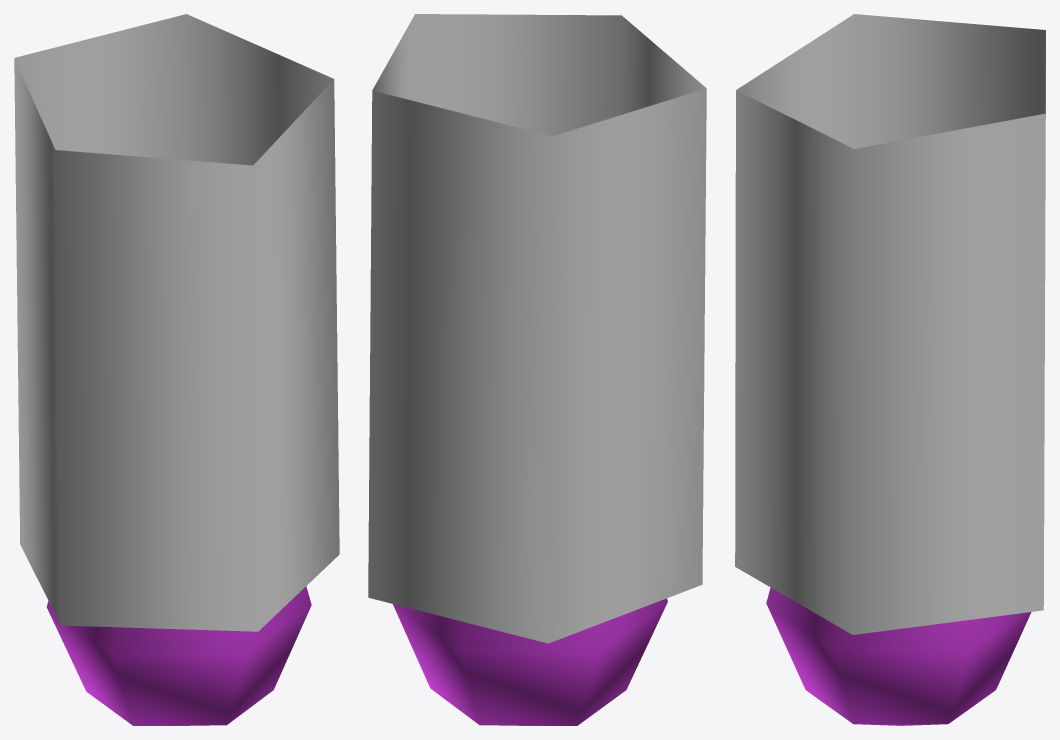
Rendered from index_proximal.gltf.
The picture shows the model from 3 angles, left to right: view 1: azimuth 30°, elevation 25°; view 2: azimuth 150°, elevation 25°; view 3: azimuth 270°, elevation 25°; orthographic projection. The views are drawn at different scales.
Parts seen in each view (by area): view 1: LEFT_INDEX_PROXIMAL; view 2: LEFT_INDEX_PROXIMAL; view 3: LEFT_INDEX_PROXIMAL.
Boxes of the visible parts, <box> form: LEFT_INDEX_PROXIMAL: <box>14,14,339,725</box>; LEFT_INDEX_PROXIMAL: <box>368,14,706,725</box>; LEFT_INDEX_PROXIMAL: <box>735,14,1045,725</box>.
Size of the model in its own units: 0.0261 by 0.0563 by 0.0244.
